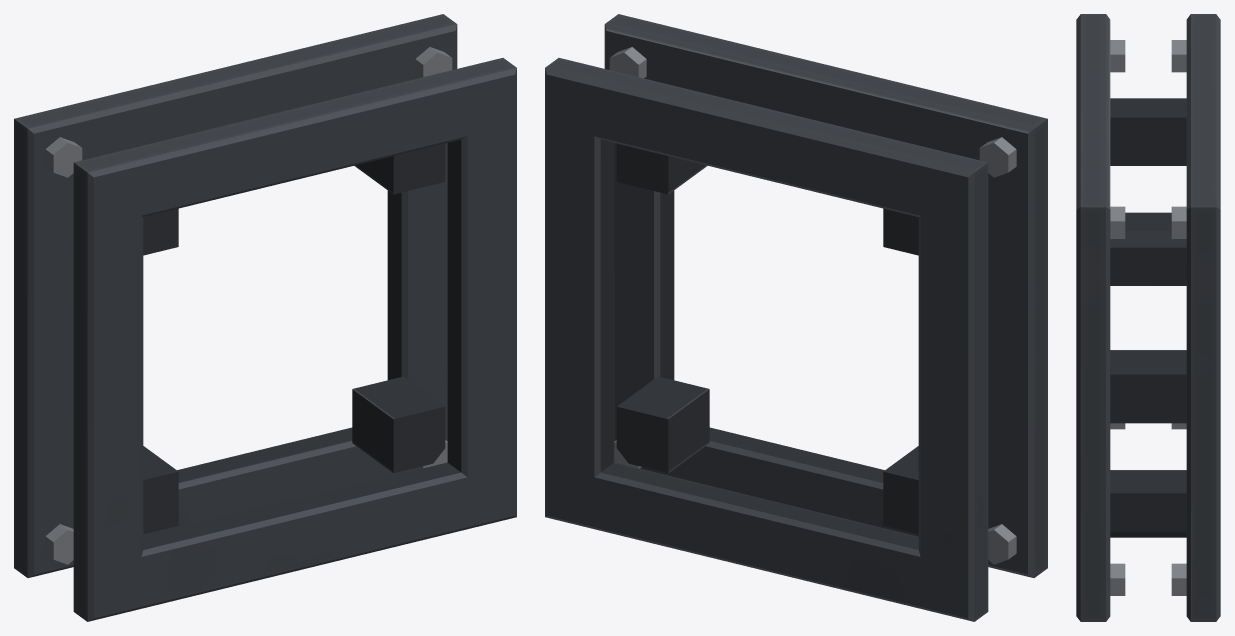
File: arm_port_south.obj
The picture shows the model from 3 angles, left to right: view 1: azimuth 30°, elevation 25°; view 2: azimuth 150°, elevation 25°; view 3: azimuth 270°, elevation 25°; orthographic projection. The views are drawn at different scales.
Parts seen in each view (by area): view 1: arm_port_port, arm_port_flange, arm_port_rails, arm_port_flange_nuts; view 2: arm_port_flange, arm_port_port, arm_port_rails, arm_port_port_nuts; view 3: arm_port_flange, arm_port_port, arm_port_rails, arm_port_flange_nuts, arm_port_port_nuts.
Part boxes in pixels (x1,y1,x2,y2): arm_port_port: (73, 58, 516, 621); arm_port_flange: (14, 14, 457, 577); arm_port_rails: (143, 143, 445, 534); arm_port_flange_nuts: (45, 47, 452, 564); arm_port_flange: (545, 58, 988, 621); arm_port_port: (604, 14, 1047, 577); arm_port_rails: (616, 143, 918, 534); arm_port_port_nuts: (609, 47, 1016, 564); arm_port_flange: (1186, 14, 1220, 621); arm_port_port: (1076, 14, 1110, 621); arm_port_rails: (1110, 98, 1186, 537); arm_port_flange_nuts: (1171, 40, 1186, 595); arm_port_port_nuts: (1110, 40, 1125, 595).
Bounding box in the file's own units: 0.675 × 0.675 × 0.2125.
